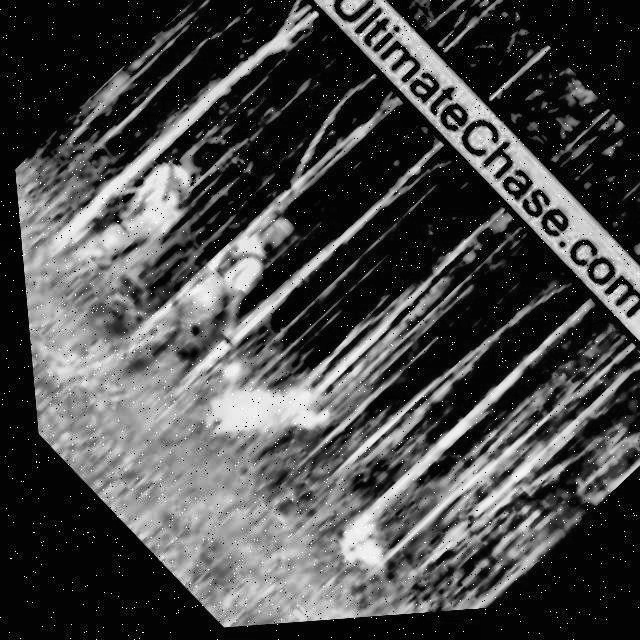Fire: (181, 338, 321, 477), (305, 512, 388, 596)
